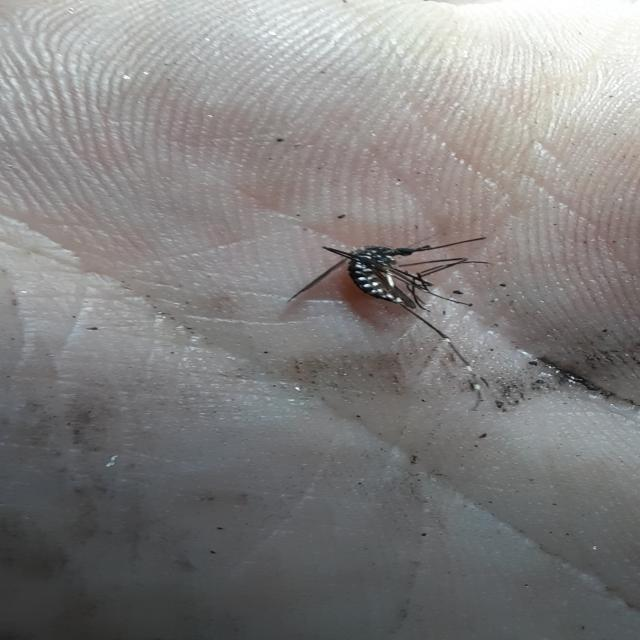albopictus: (279, 231, 517, 377)
